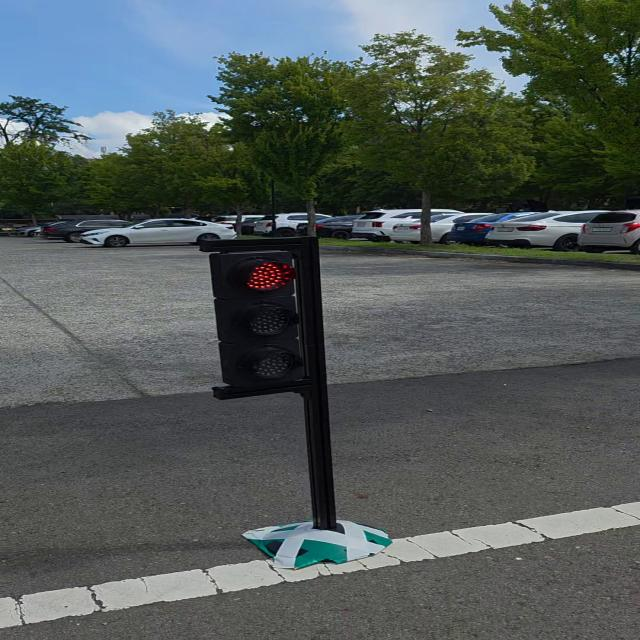red: (198, 243, 340, 399)
